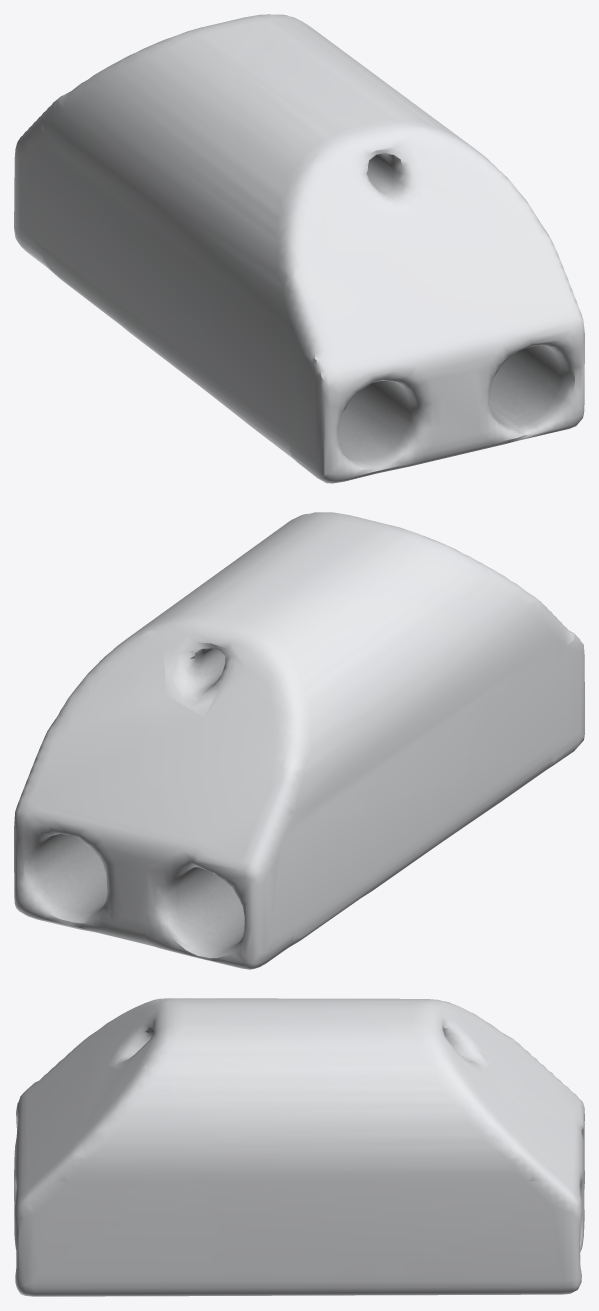
The model's file is left_finger3_lower.obj.
3 renders of one model, top to bottom at view 1: azimuth 30°, elevation 25°; view 2: azimuth 150°, elevation 25°; view 3: azimuth 270°, elevation 25°, orthographic. The views are drawn at different scales.
Parts seen in each view (by area): view 1: left_finger3_lower; view 2: left_finger3_lower; view 3: left_finger3_lower.
Part boxes in pixels (box(x1,y1,x2,y2)): left_finger3_lower: box(14, 14, 584, 483); left_finger3_lower: box(14, 512, 584, 969); left_finger3_lower: box(14, 998, 584, 1296).
Size of the model in its own units: 0.0117 by 0.0113 by 0.0251.
Materials: 1 (1 with a texture image).
